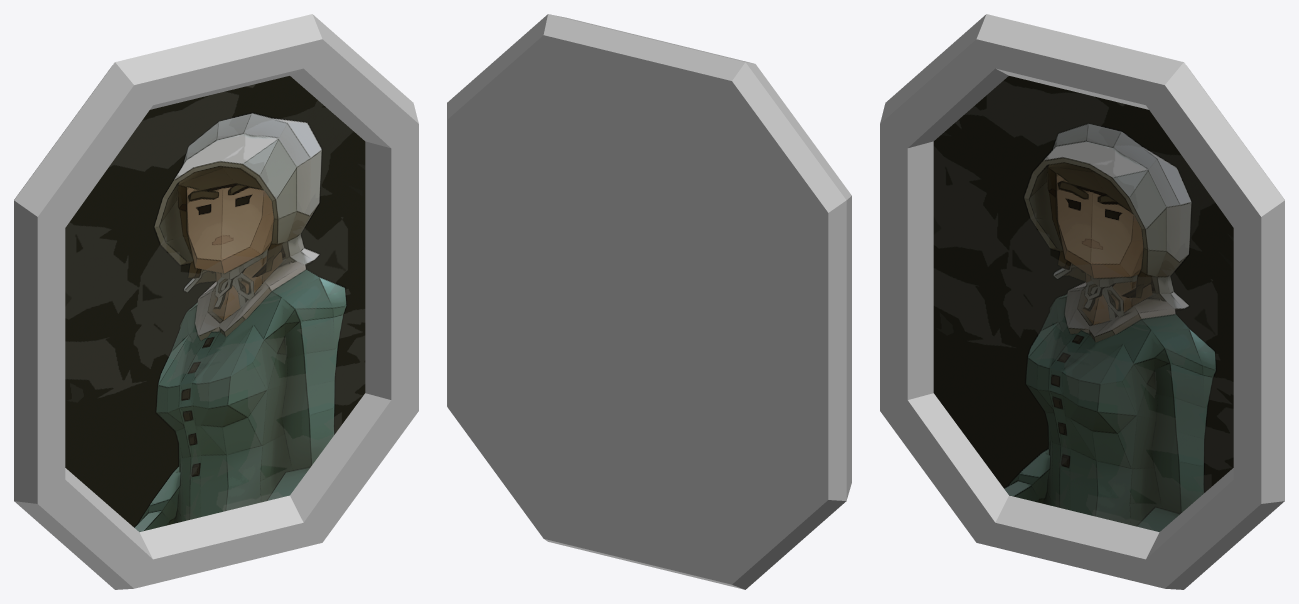
Rendered from SM_Prop_Picture_Frame_06.fbx.
3 views of the same model, side by side, from view 1: azimuth 30°, elevation 25°; view 2: azimuth 150°, elevation 25°; view 3: azimuth 330°, elevation 25° (orthographic).
Visible parts, largest first — view 1: SM_Prop_Picture_Frame_06; view 2: SM_Prop_Picture_Frame_06; view 3: SM_Prop_Picture_Frame_06.
Part boxes in pixels (left/top/right/bottom): SM_Prop_Picture_Frame_06: left=14, top=14, right=418, bottom=589; SM_Prop_Picture_Frame_06: left=447, top=14, right=851, bottom=589; SM_Prop_Picture_Frame_06: left=880, top=14, right=1284, bottom=589.
Bounding box in the file's own units: 29.51 × 37.24 × 3.02.
